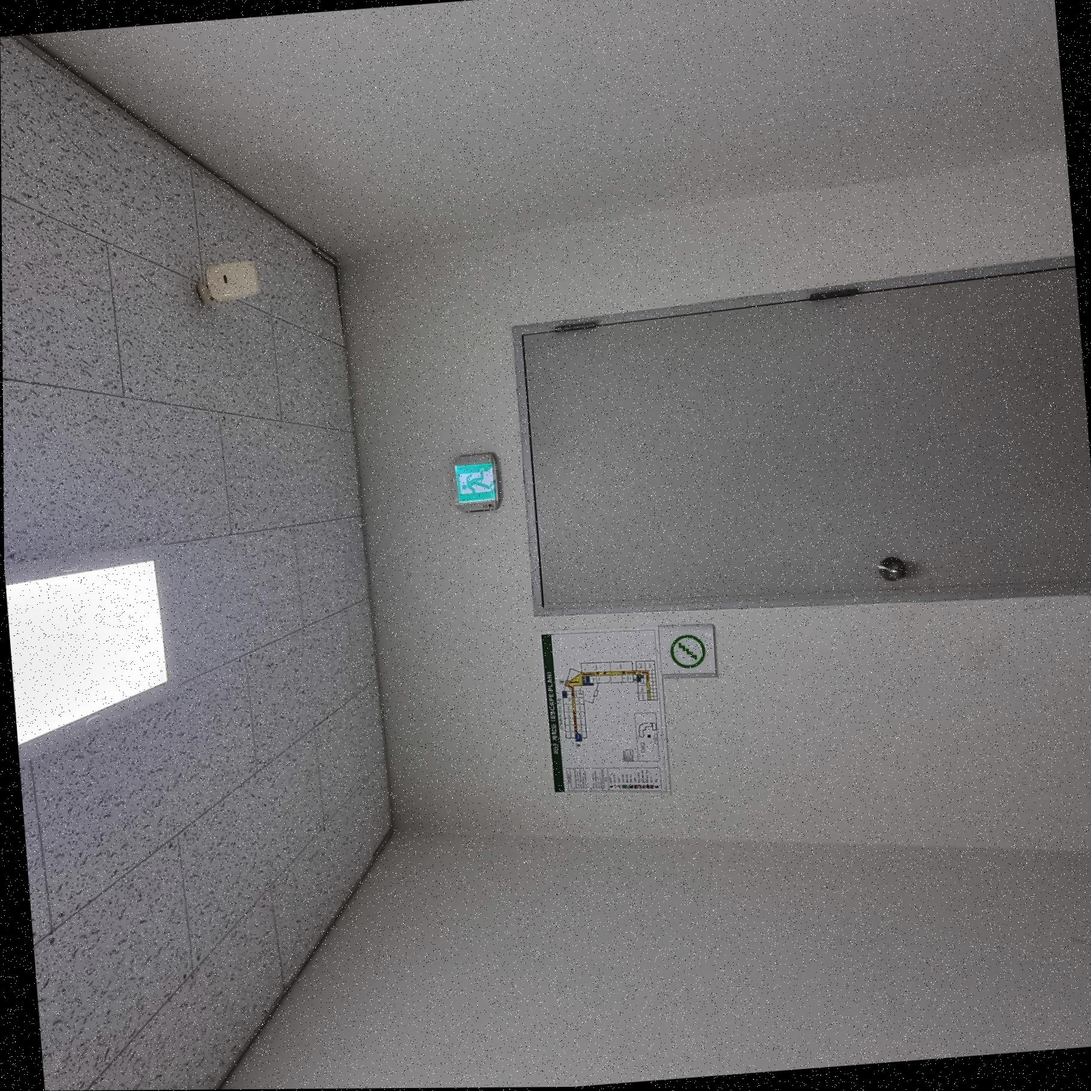emergency_exit: (540, 626, 671, 795), (658, 622, 718, 677), (452, 452, 500, 510)
